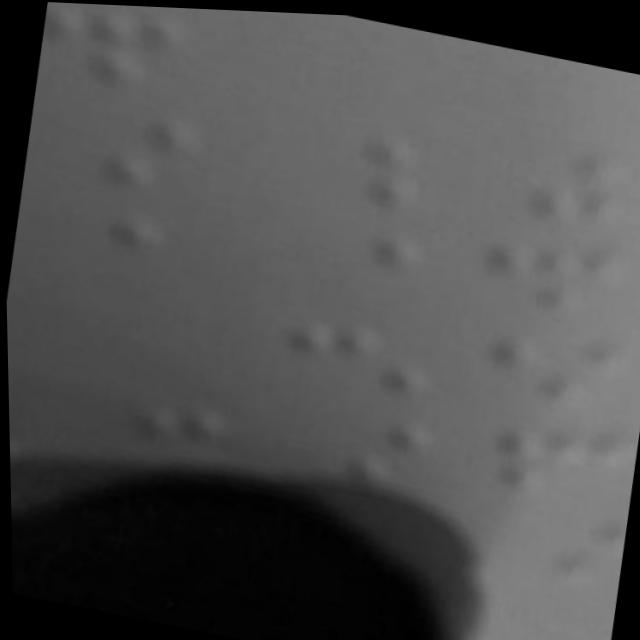braiile: (30, 92, 214, 217), (465, 309, 639, 427), (269, 108, 441, 226), (36, 198, 209, 313), (33, 1, 203, 114), (276, 398, 451, 506), (476, 403, 638, 516), (476, 218, 634, 329), (466, 492, 625, 602), (271, 209, 430, 317), (270, 311, 429, 412), (494, 134, 640, 230)
